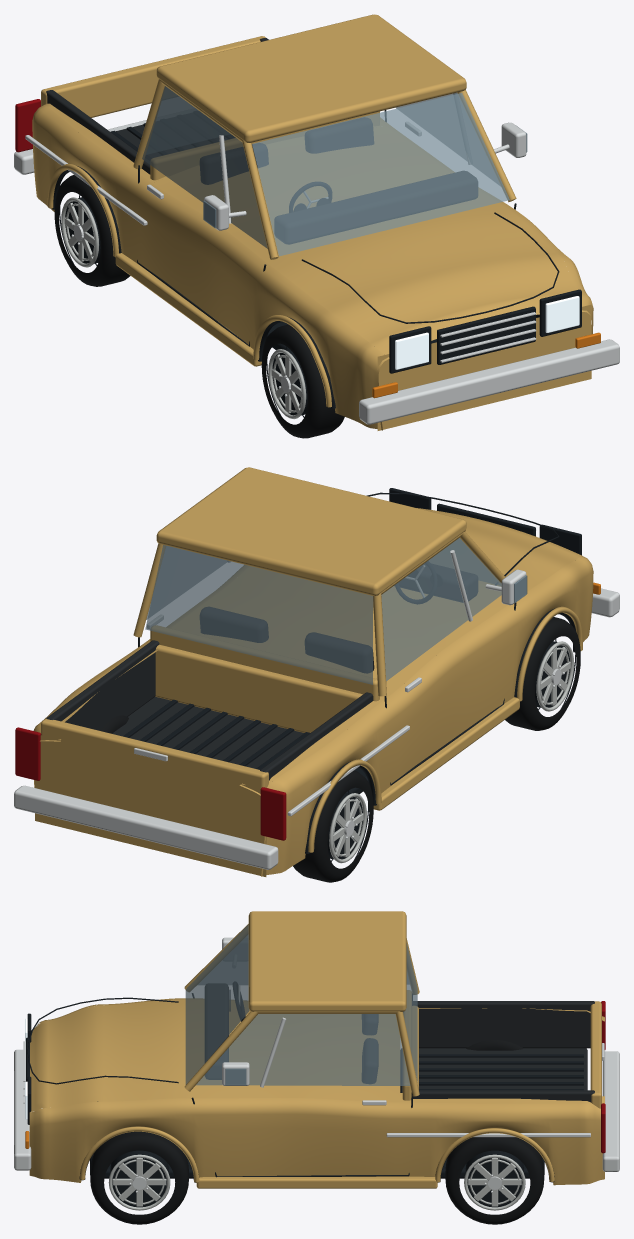
Rendered from coda.glb.
3 views of the same model, one above another, from view 1: azimuth 30°, elevation 25°; view 2: azimuth 150°, elevation 25°; view 3: azimuth 270°, elevation 25° (orthographic). The views are drawn at different scales.
Visible parts, largest first — view 1: exterior-paint, windows, chrome, interior, black-trim (×3), rubber (×2), rims (×2), headlights, taillights, indicators; view 2: exterior-paint, windows, interior, chrome, black-trim (×3), rubber (×2), rims (×2), taillights; view 3: exterior-paint, windows, interior, black-trim (×3), rubber (×3), chrome, rims (×2).
Boxes of the visible parts, x1=… form: exterior-paint: x1=32, y1=14, x2=593, y2=430; windows: x1=142, y1=86, x2=527, y2=256; chrome: x1=14, y1=93, x2=619, y2=424; interior: x1=46, y1=38, x2=477, y2=244; black-trim (×3): x1=52, y1=110, x2=581, y2=417; rubber (×2): x1=54, y1=175, x2=344, y2=438; rims (×2): x1=61, y1=197, x2=306, y2=419; headlights: x1=395, y1=296, x2=579, y2=369; taillights: x1=15, y1=99, x2=40, y2=152; indicators: x1=372, y1=332, x2=600, y2=398; exterior-paint: x1=33, y1=467, x2=593, y2=876; windows: x1=145, y1=538, x2=527, y2=684; interior: x1=46, y1=564, x2=477, y2=780; chrome: x1=14, y1=529, x2=619, y2=869; black-trim (×3): x1=123, y1=488, x2=581, y2=861; rubber (×2): x1=293, y1=617, x2=580, y2=882; rims (×2): x1=329, y1=641, x2=574, y2=863; taillights: x1=15, y1=727, x2=286, y2=840; exterior-paint: x1=29, y1=911, x2=604, y2=1188; windows: x1=185, y1=924, x2=417, y2=1085; interior: x1=205, y1=983, x2=594, y2=1102; black-trim (×3): x1=26, y1=981, x2=583, y2=1214; rubber (×3): x1=90, y1=1040, x2=544, y2=1224; chrome: x1=14, y1=937, x2=619, y2=1171; rims (×2): x1=108, y1=1154, x2=525, y2=1210.
Bounding box in the file's own units: 1.78 × 1.37 × 3.5.
